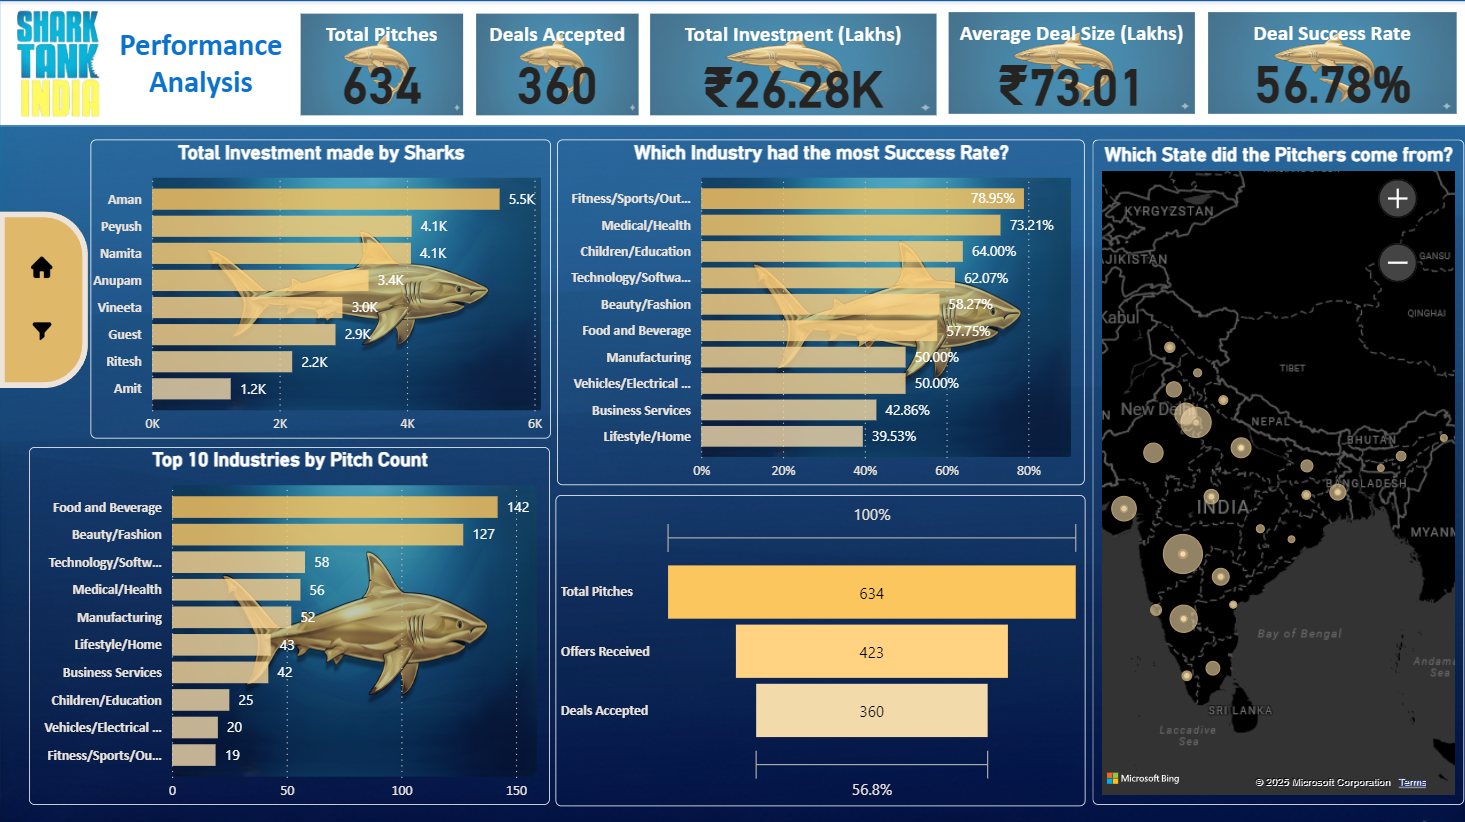

Layout of this report page (visuals, bound fields, positions):
{"tool":"powerbi","page":{"name":"Page 1","canvas":[1280,720],"ordinal":0},"visuals":[{"type":"shape","box":[0,0,1279.4,110.1],"z":0,"group":"g3"},{"type":"group","id":"g1","title":"Visuals","box":[26,121.6,1250.9,580.5],"z":0},{"type":"shape","box":[0,184.1,77.7,153.9],"z":0,"group":"g2"},{"type":"funnel","fields":{"Y":["Shark Tank India Cleaned.Total Pitches","Shark Tank India Cleaned.Offers Received","Shark Tank India Cleaned.Deals Accepted"]},"box":[484.8,431,461.8,271],"z":0,"group":"g1"},{"type":"cardVisual","fields":{"Data":["Shark Tank India Cleaned.Total Investment (Lakhs)"]},"box":[562.3,6.1,260.7,99.1],"z":1000,"group":"g3"},{"type":"map","title":"Which State did the Pitchers come from?","fields":{"Category":["Shark Tank India Cleaned.Pitchers State"],"Size":["Shark Tank India Cleaned.Total Pitches"]},"box":[952.8,121.6,324,579.9],"z":1000,"group":"g1"},{"type":"group","id":"g2","title":"Access Panel","box":[0,184.1,77.7,153.9],"z":1000},{"type":"image","box":[5.5,218,64.6,29],"z":1000,"group":"g2"},{"type":"group","id":"g3","title":"Header","box":[0,0,1279.9,110.7],"z":2000},{"type":"cardVisual","fields":{"Data":["Shark Tank India Cleaned.Average Deal Size (Lakhs)"]},"box":[822.3,5.5,225.8,99.1],"z":2000,"group":"g3"},{"type":"clusteredBarChart","title":"Which Industry had the most Success Rate?","fields":{"Category":["Shark Tank India Cleaned.Industry"],"Y":["Shark Tank India Cleaned.Deal Success Rate"]},"box":[486.5,122.1,460.3,301.3],"z":2000,"group":"g1"},{"type":"image","box":[5.5,272.6,64.6,29.9],"z":2000,"group":"g2"},{"type":"actionButton","title":"Filter","box":[0,272.8,77.7,29.6],"z":2500,"group":"g2"},{"type":"cardVisual","fields":{"Data":["Shark Tank India Cleaned.Deal Success Rate"]},"box":[1048.1,5.5,227.6,99.1],"z":3000,"group":"g3"},{"type":"clusteredBarChart","title":"Total Investment made by Sharks","fields":{"Category":["Shark Tank India Cleaned.Shark Name"],"Y":["Sum(Shark Tank India Cleaned.Investment Amount)"]},"box":[79.1,122.1,401.3,260.4],"z":3000,"group":"g1"},{"type":"cardVisual","fields":{"Data":["Shark Tank India Cleaned.Deals Accepted"]},"box":[409.9,6.1,152.4,99.1],"z":4000,"group":"g3"},{"type":"clusteredBarChart","title":"Top 10 Industries by Pitch Count","fields":{"Category":["Shark Tank India Cleaned.Industry"],"Y":["Shark Tank India Cleaned.Total Pitches"]},"box":[26,390.1,454.3,311.9],"z":4000,"group":"g1"},{"type":"cardVisual","fields":{"Data":["Shark Tank India Cleaned.Total Pitches"]},"box":[257.6,6.1,152.4,99.1],"z":5000,"group":"g3"},{"type":"textbox","box":[91.8,16.5,168.9,77.1],"z":6000,"group":"g3"},{"type":"image","box":[0,0,104.6,110.1],"z":7000,"group":"g3"}]}

Visuals, with their boxes in screenshot pixels (x1, y1, x2, y2), scaled from the page's 1280x720 canvas onto the 1465x822 screenshot:
shape: {"x1": 0, "y1": 0, "x2": 1464, "y2": 126}
"Visuals" group: {"x1": 30, "y1": 139, "x2": 1461, "y2": 802}
shape: {"x1": 0, "y1": 210, "x2": 89, "y2": 386}
funnel - Shark Tank India Cleaned.Total Pitches x Shark Tank India Cleaned.Offers Received: {"x1": 555, "y1": 492, "x2": 1083, "y2": 801}
cardVisual - Shark Tank India Cleaned.Total Investment (Lakhs): {"x1": 644, "y1": 7, "x2": 942, "y2": 120}
"Which State did the Pitchers come from?" map: {"x1": 1091, "y1": 139, "x2": 1461, "y2": 801}
"Access Panel" group: {"x1": 0, "y1": 210, "x2": 89, "y2": 386}
image: {"x1": 6, "y1": 249, "x2": 80, "y2": 282}
"Header" group: {"x1": 0, "y1": 0, "x2": 1464, "y2": 126}
cardVisual - Shark Tank India Cleaned.Average Deal Size (Lakhs): {"x1": 941, "y1": 6, "x2": 1200, "y2": 119}
"Which Industry had the most Success Rate?" clusteredBarChart: {"x1": 557, "y1": 139, "x2": 1084, "y2": 483}
image: {"x1": 6, "y1": 311, "x2": 80, "y2": 345}
"Filter" actionButton: {"x1": 0, "y1": 311, "x2": 89, "y2": 345}
cardVisual - Shark Tank India Cleaned.Deal Success Rate: {"x1": 1200, "y1": 6, "x2": 1460, "y2": 119}
"Total Investment made by Sharks" clusteredBarChart: {"x1": 91, "y1": 139, "x2": 550, "y2": 437}
cardVisual - Shark Tank India Cleaned.Deals Accepted: {"x1": 469, "y1": 7, "x2": 644, "y2": 120}
"Top 10 Industries by Pitch Count" clusteredBarChart: {"x1": 30, "y1": 445, "x2": 550, "y2": 801}
cardVisual - Shark Tank India Cleaned.Total Pitches: {"x1": 295, "y1": 7, "x2": 469, "y2": 120}
textbox: {"x1": 105, "y1": 19, "x2": 298, "y2": 107}
image: {"x1": 0, "y1": 0, "x2": 120, "y2": 126}
